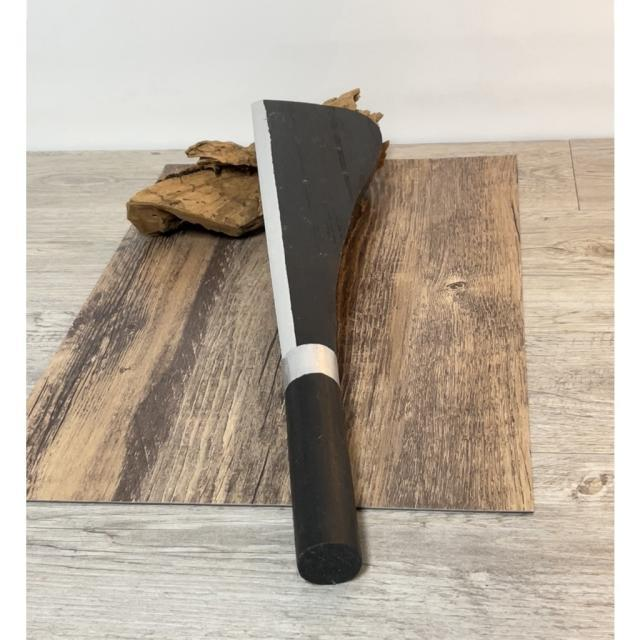eto: (240, 86, 398, 588)
